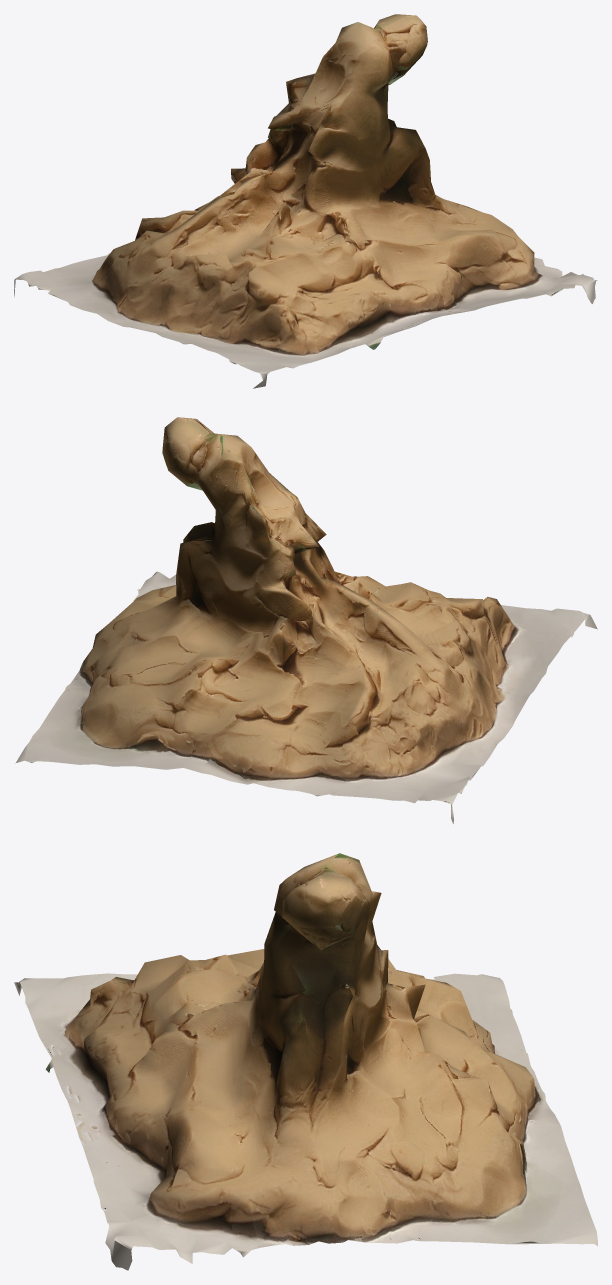
Rendered from GPGre_MamanLOD11.fbx.
3 renders of one model, top to bottom at view 1: azimuth 30°, elevation 25°; view 2: azimuth 150°, elevation 25°; view 3: azimuth 270°, elevation 25°, orthographic. The views are drawn at different scales.
Parts seen in each view (by area): view 1: Model; view 2: Model; view 3: Model.
Part boxes in pixels (x1=…): Model: x1=14, y1=14, x2=597, y2=388; Model: x1=15, y1=417, x2=597, y2=823; Model: x1=14, y1=853, x2=597, y2=1270.
Bounding box in the file's own units: 2.36 × 1.36 × 2.15.
